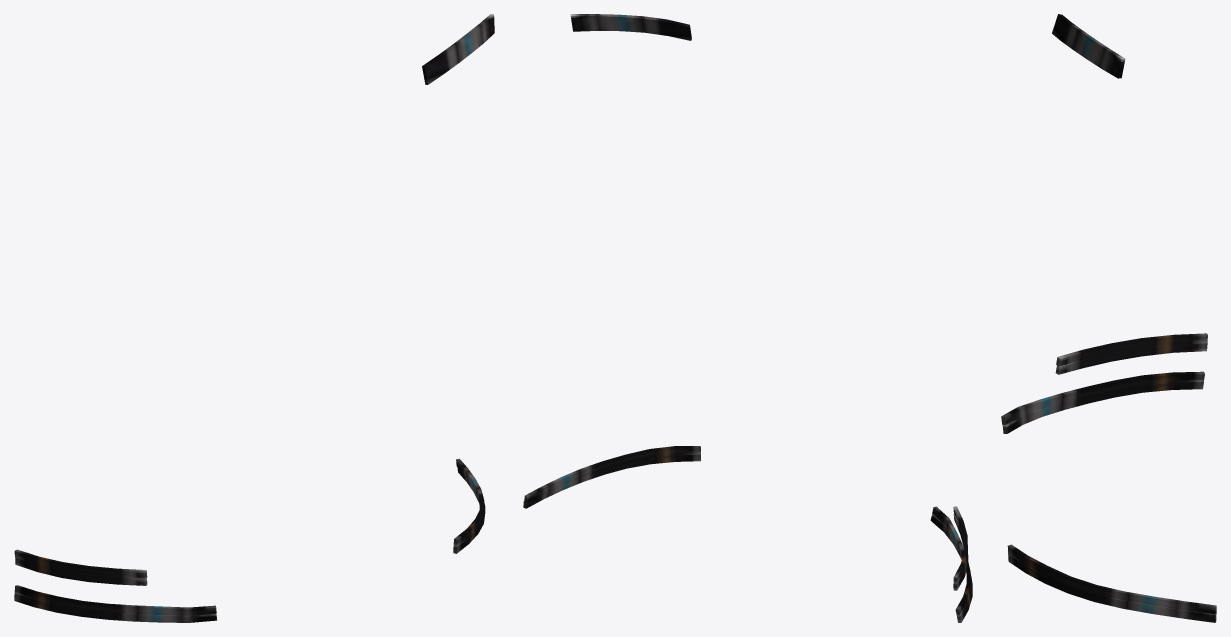
File: str8pcktwtsb.glb
3 views of the same model, side by side, from view 1: azimuth 30°, elevation 25°; view 2: azimuth 150°, elevation 25°; view 3: azimuth 270°, elevation 25° (orthographic). The views are drawn at different scales.
Parts seen in each view (by area): view 1: pocket (×6); view 2: pocket (×4); view 3: pocket (×7).
Part boxes in pixels (x1,y1,x2,y2): pocket (×6): (14, 14, 494, 622); pocket (×4): (523, 14, 971, 616); pocket (×7): (1001, 14, 1216, 622).
Bounding box in the file's own units: 340 × 361 × 123.
7 materials, 7 textured.
